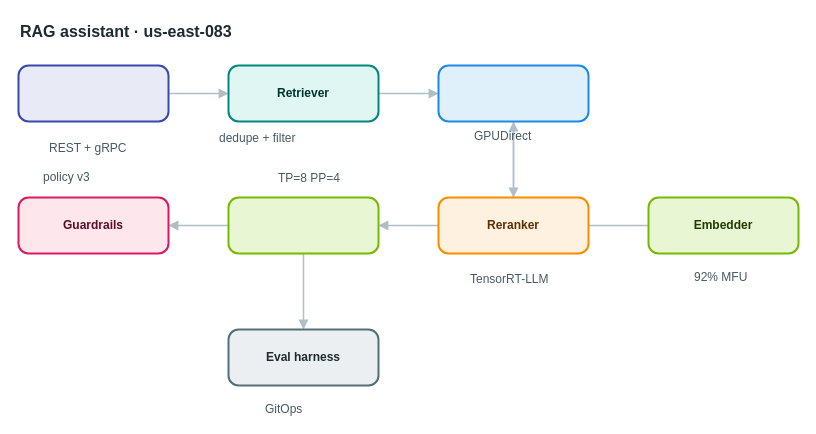
This 816x434 diagram has some shape labels left out. The centre of each missing label's shape, as x and y in pixels:
"Nemotron" goes at point 303,225.
"User" goes at point 93,93.
"Vector DB" goes at point 513,93.
